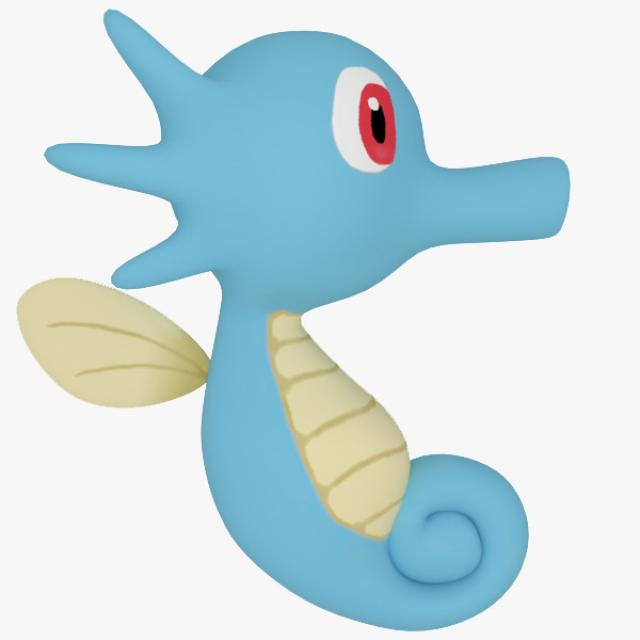Horsea: (45, 17, 568, 596)
